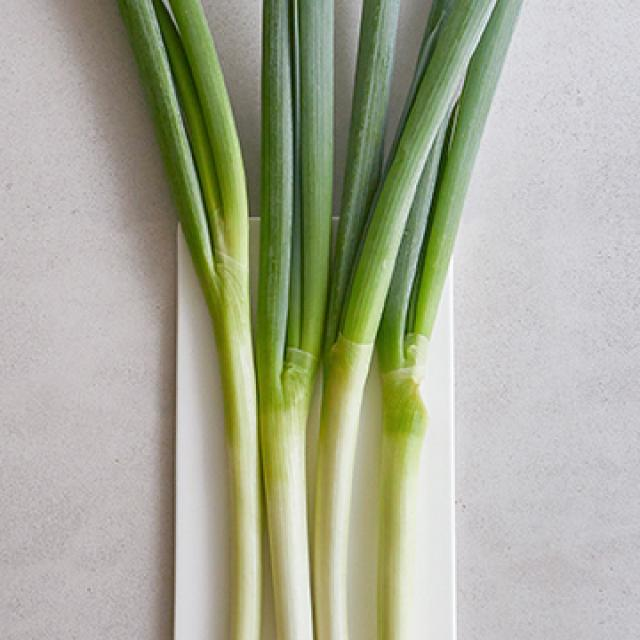greenonion: (117, 0, 569, 640)
